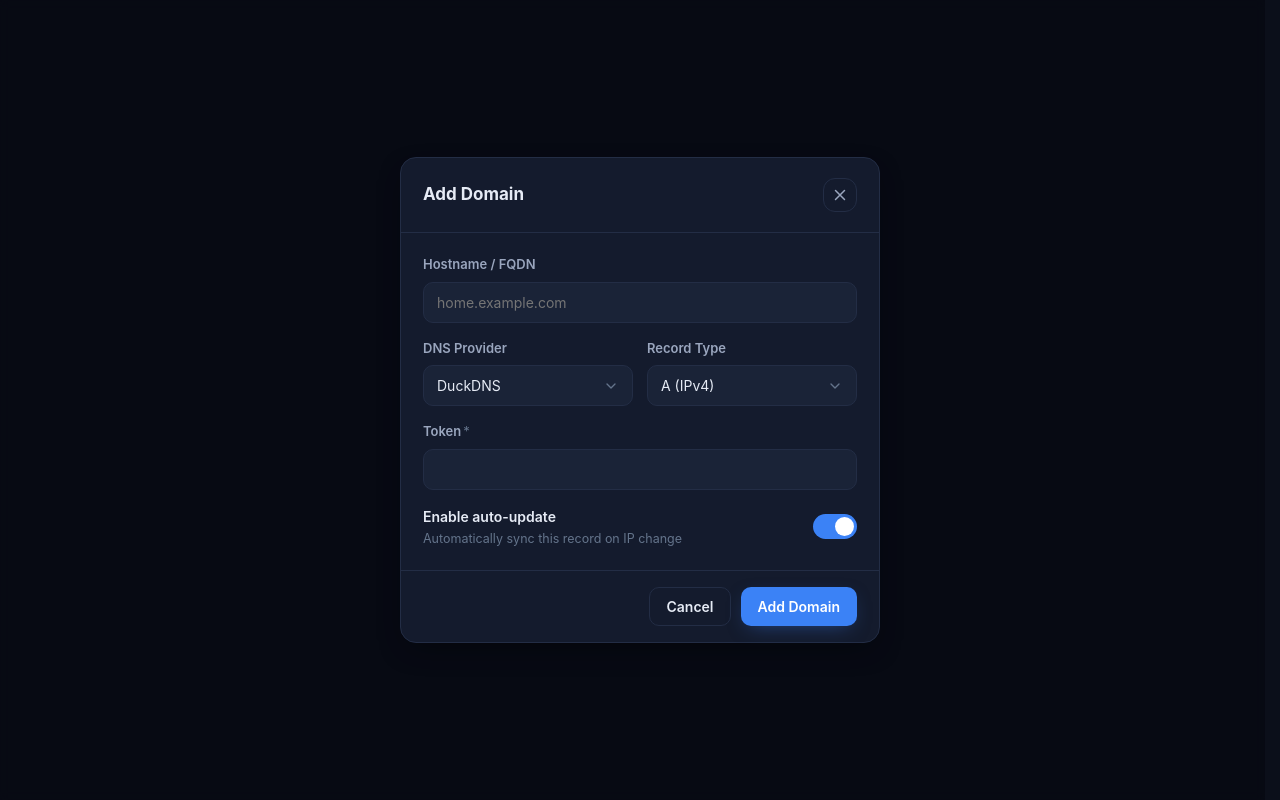
Test case: DomainModal › shows a form-level alert when no field is named
The width and height of the screenshot is (1280, 800).
Click the button "Add Domain". click: (799, 607)
box: [740, 587, 857, 626]
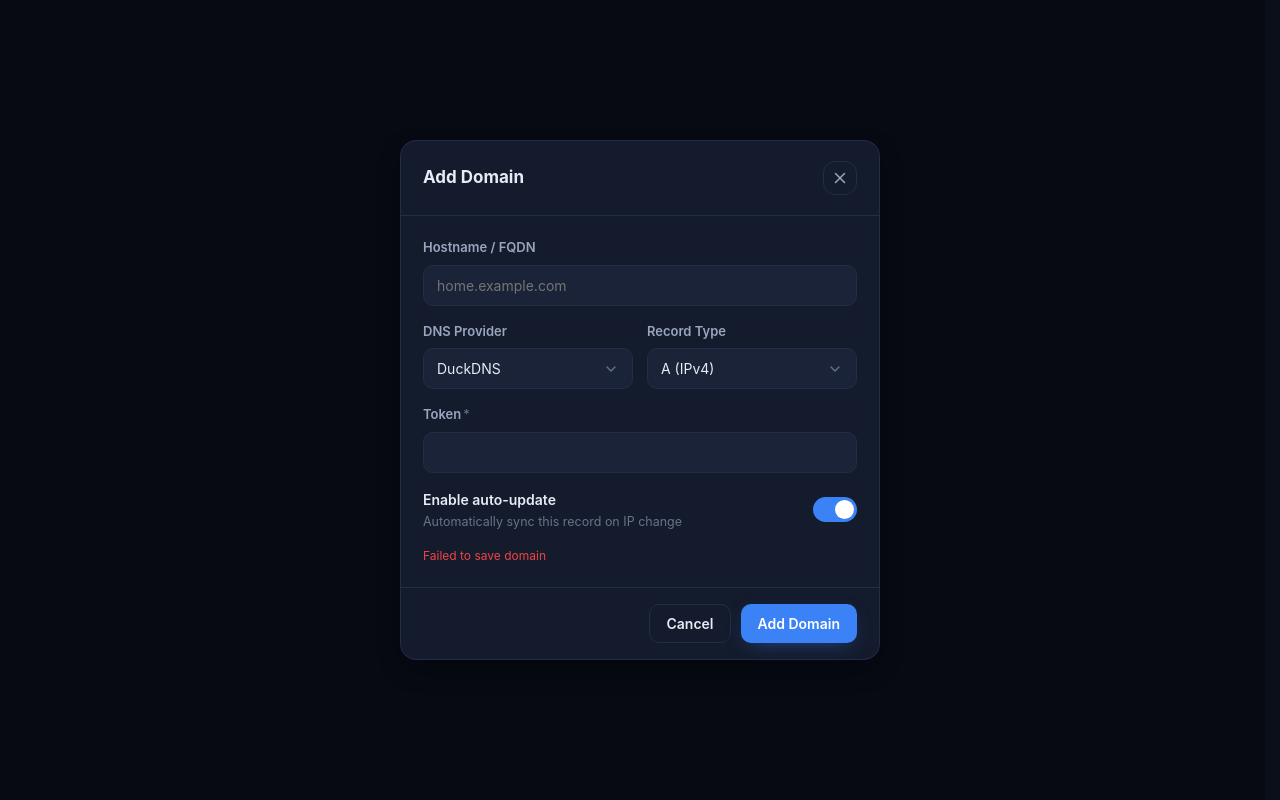
Expected: the message reads "Failed to save domain", [423, 548, 546, 563]
